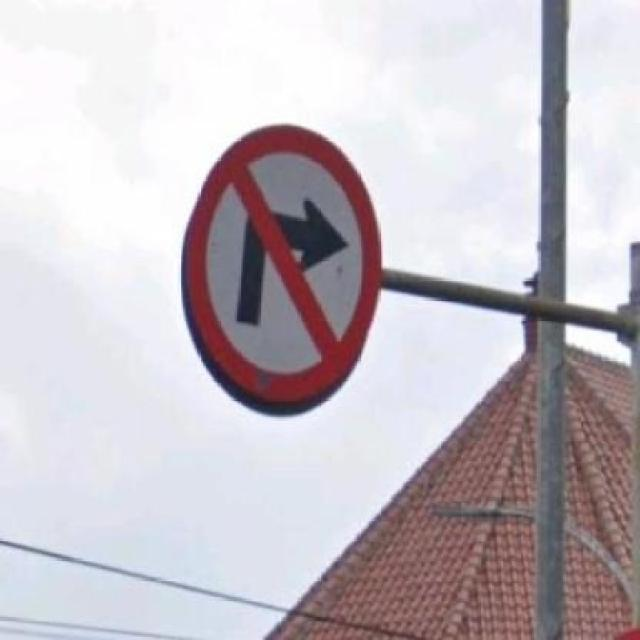right turn prohibited: (174, 117, 391, 422)
